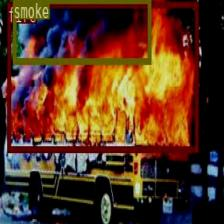fire: (7, 2, 198, 152)
smoke: (12, 0, 150, 64)
